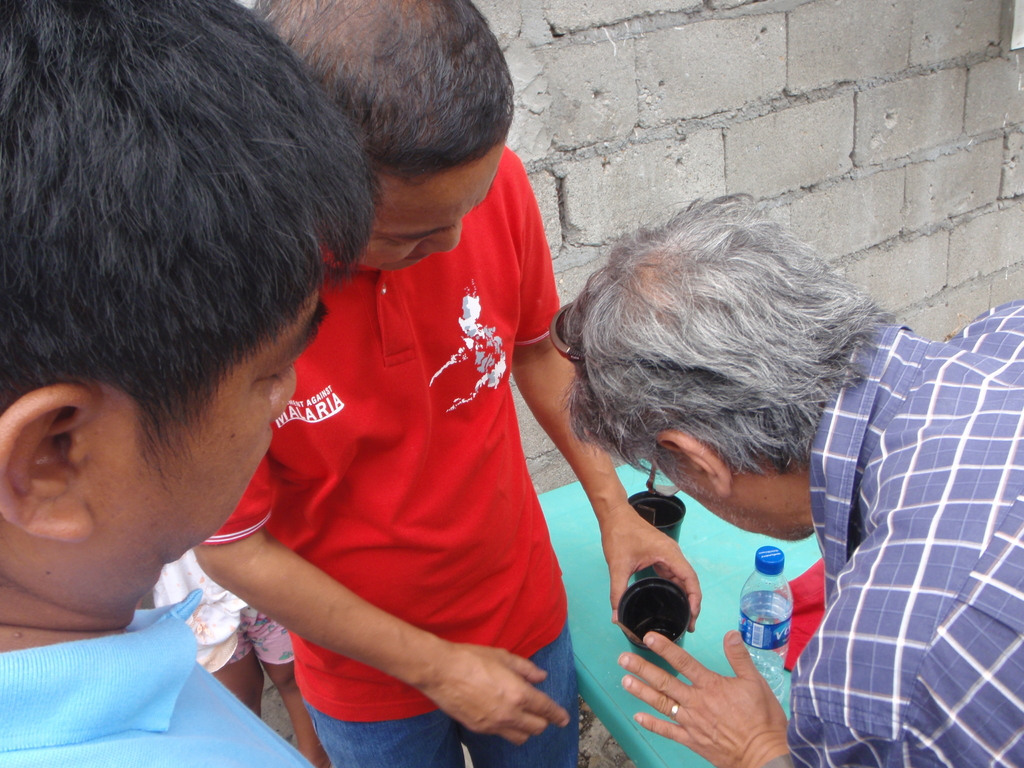Human_hand: (615, 630, 802, 746), (425, 636, 572, 750), (602, 512, 705, 633)
